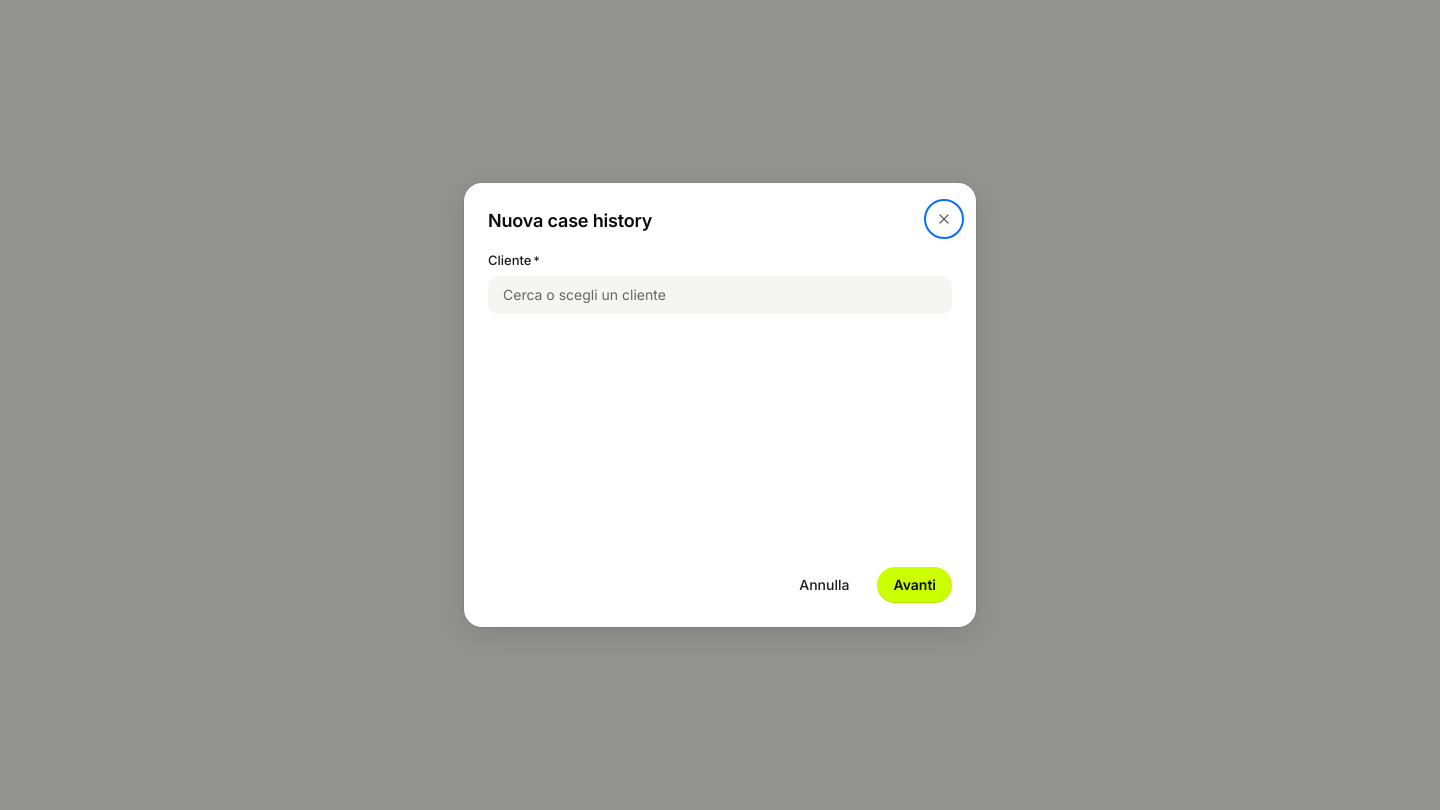
Test case: NewCaseDialog › asks for the client before creating anything
This screenshot has width=1440, height=810.
Click the button "Avanti".
click(915, 585)  # box [877,567,952,603]
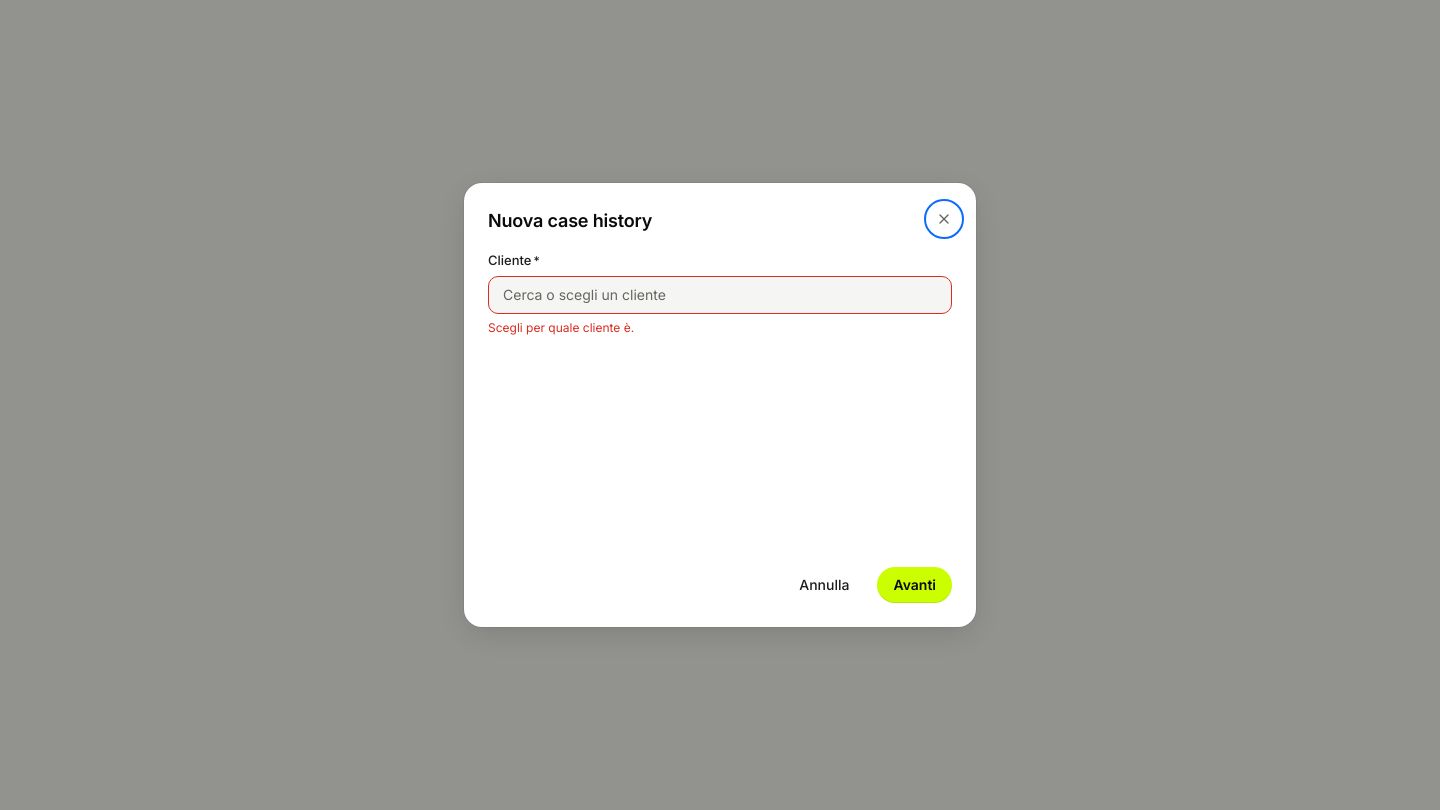
Now the text "Scegli per quale cliente è." is shown, box [488,320,634,335]
